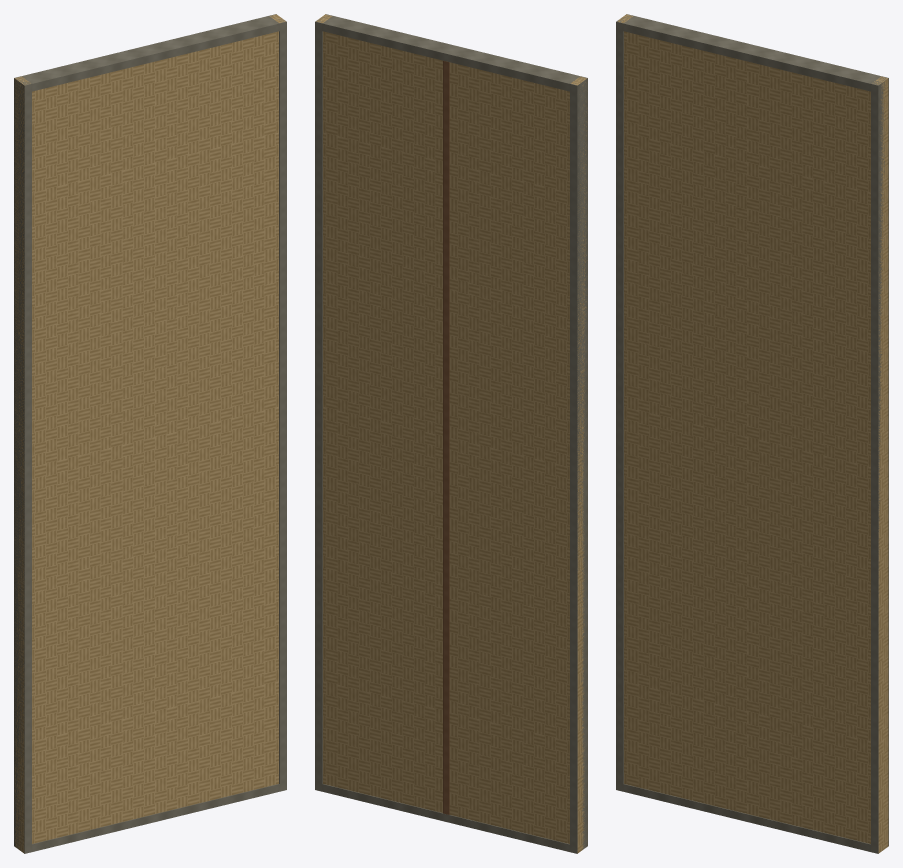
The model's file is MRP_Wall_Bamboo_1m.fbx.
3 renders of one model, left to right at view 1: azimuth 30°, elevation 25°; view 2: azimuth 150°, elevation 25°; view 3: azimuth 330°, elevation 25°, orthographic.
Visible parts, largest first — view 1: Body; view 2: Body; view 3: Body.
Boxes of the visible parts, x1,y1,x2,y2 form: Body: (14,14,286,853); Body: (315,14,587,853); Body: (616,14,888,853).
Bounding box in the file's own units: 1 × 2.8 × 0.07.
